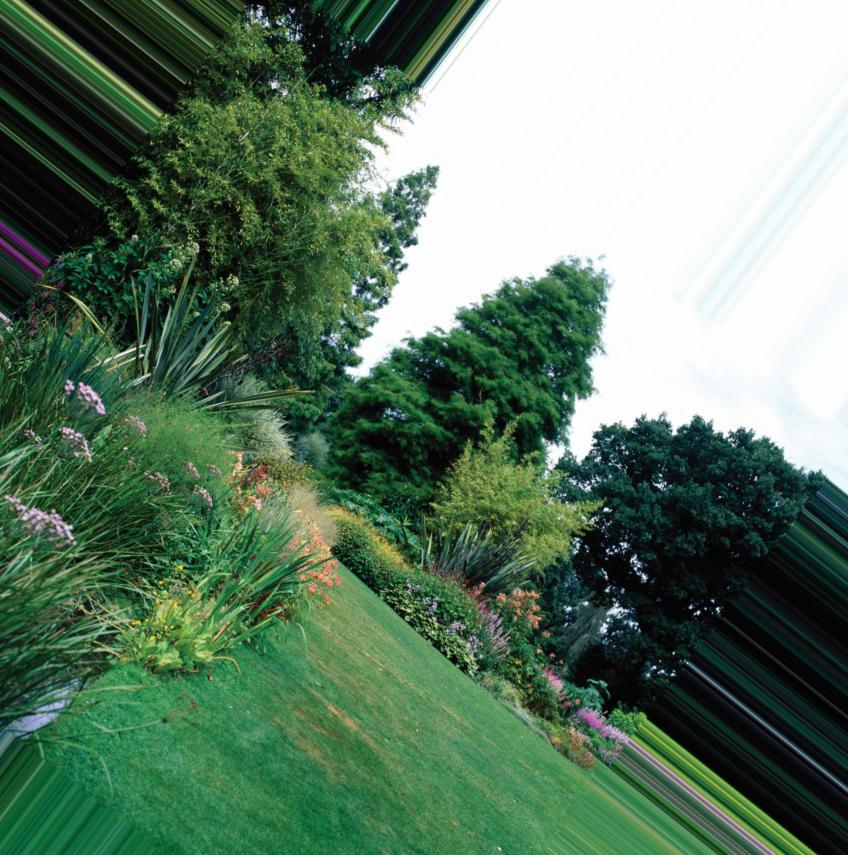patch: (319, 695, 359, 744), (317, 605, 344, 645)
